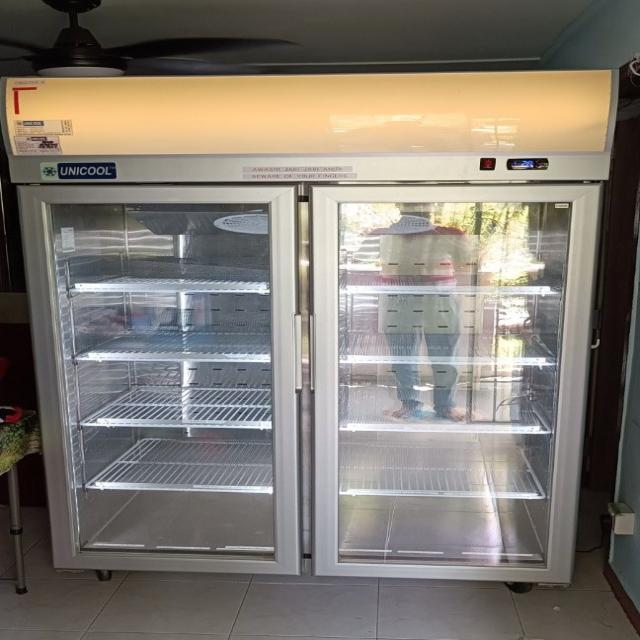refrigerator: (2, 77, 610, 588)
